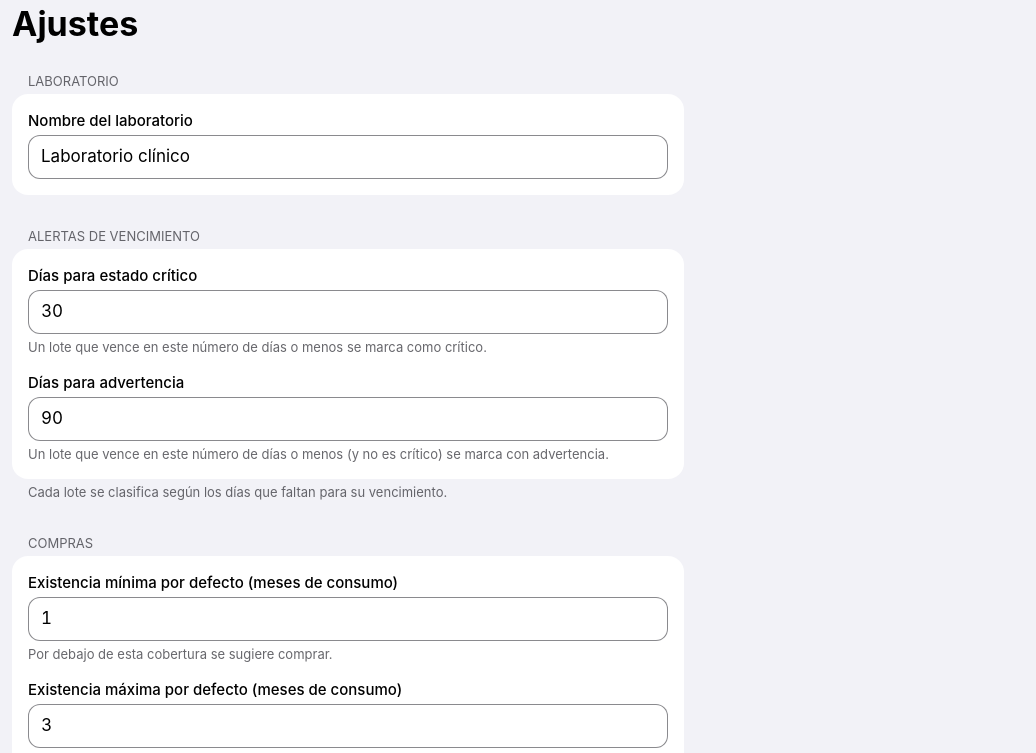
Test: SettingsPage › general settings › saves the changes and confirms with a toast
The width and height of the screenshot is (1036, 753).
Replace the text in the field labelled "Nombre del laboratorio" with "  Lab Central " at (348, 157), box [28, 135, 668, 179]
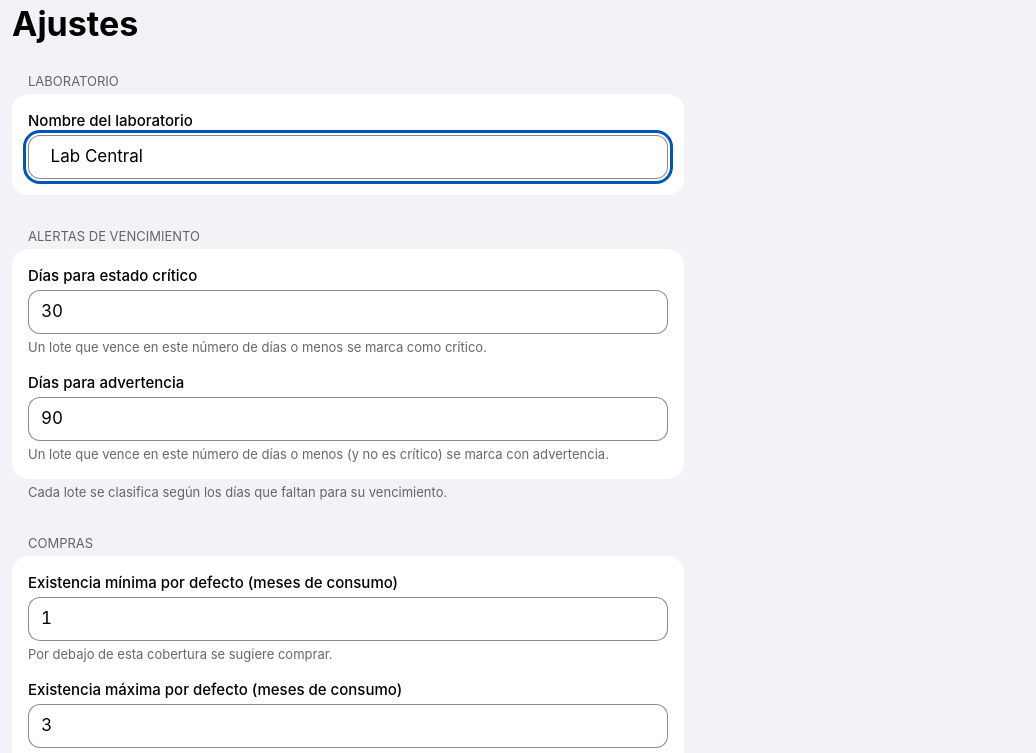
Replace the text in the field labelled "Días para estado crítico" with "15" at (348, 312), box [28, 290, 668, 334]
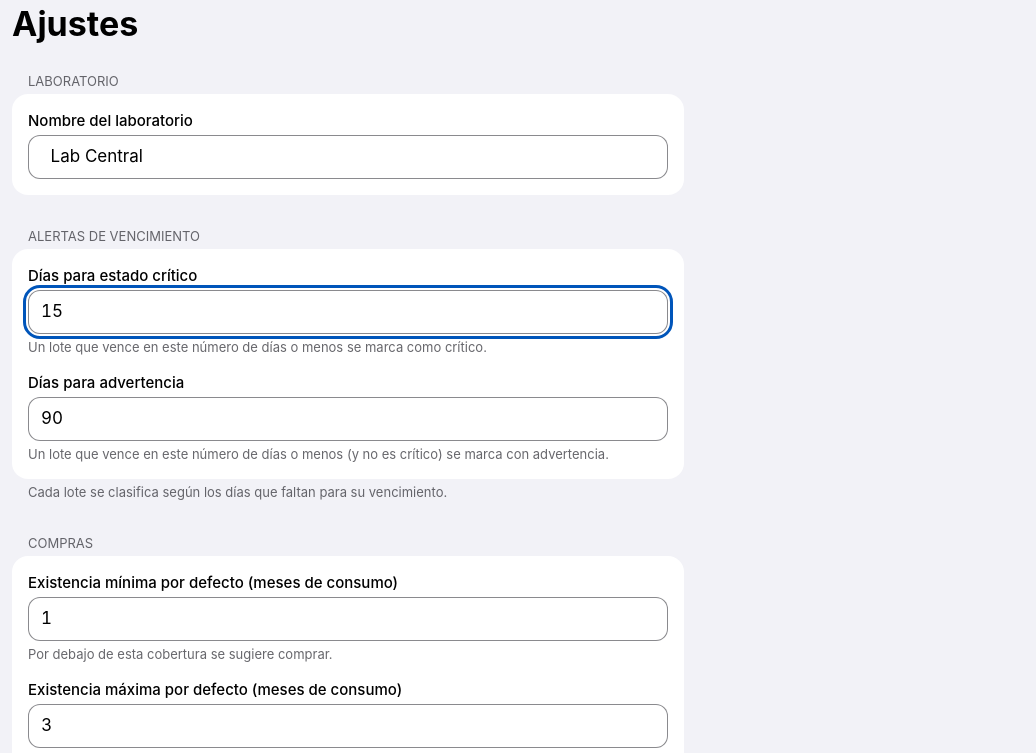
Replace the text in the field labelled "Días para advertencia" with "60" at (348, 419), box [28, 397, 668, 441]
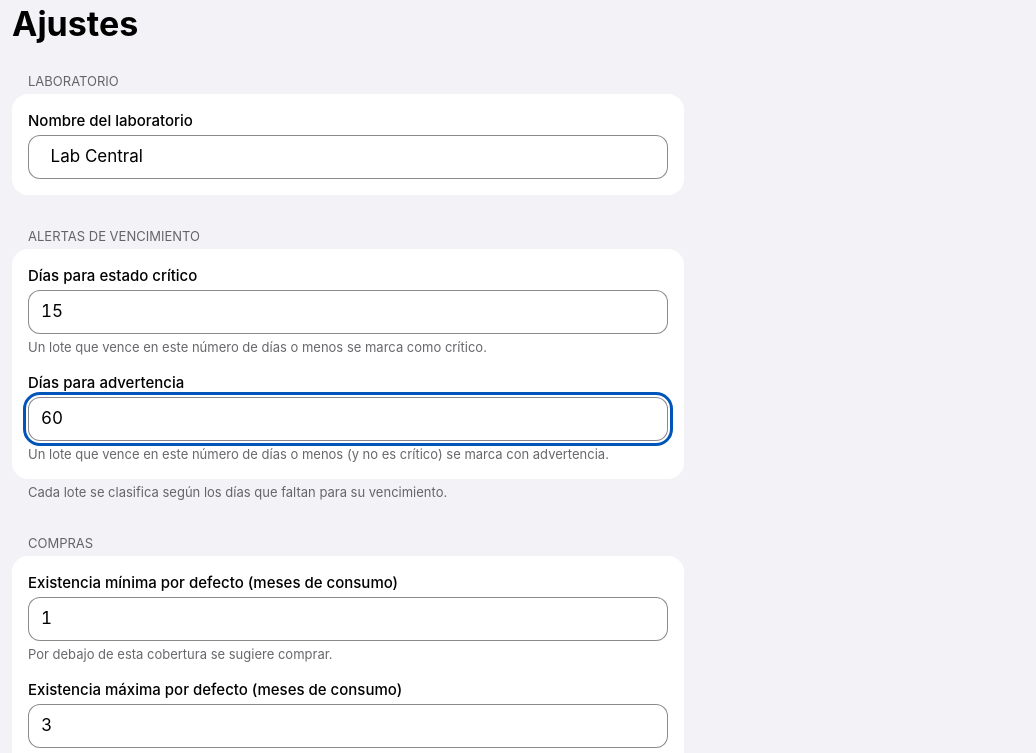
Replace the text in the field labelled "Existencia mínima por defecto (meses de consumo)" with "2" at (348, 619), box [28, 597, 668, 641]
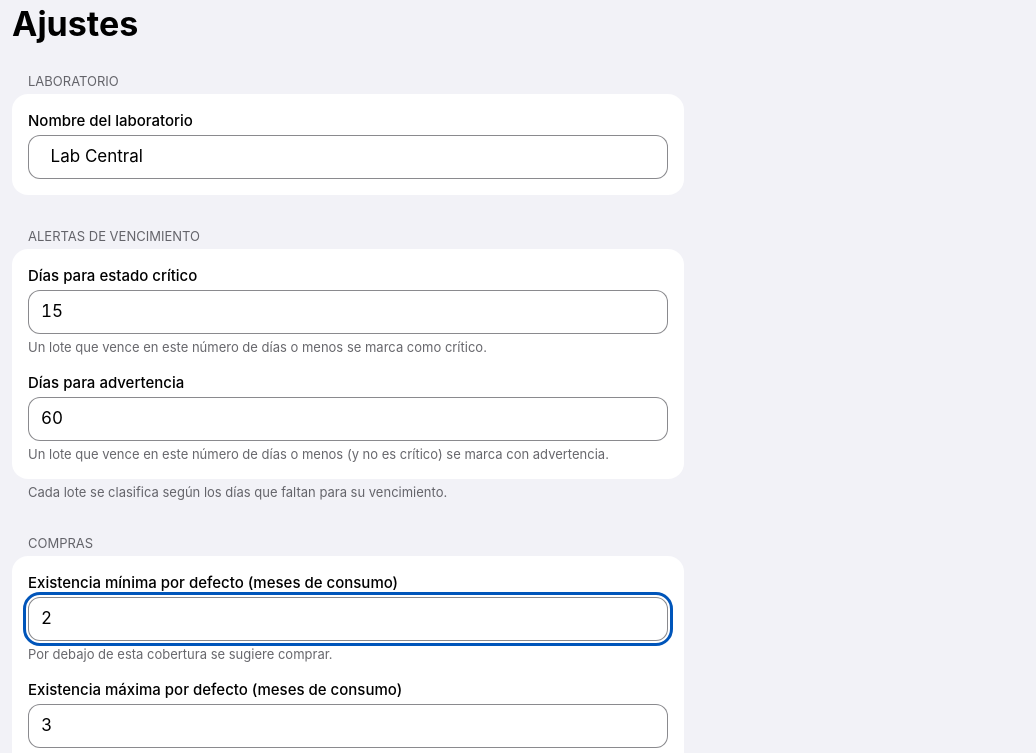
Replace the text in the field labelled "Existencia máxima por defecto (meses de consumo)" with "2" at (348, 726), box [28, 704, 668, 748]
(page scrolled)
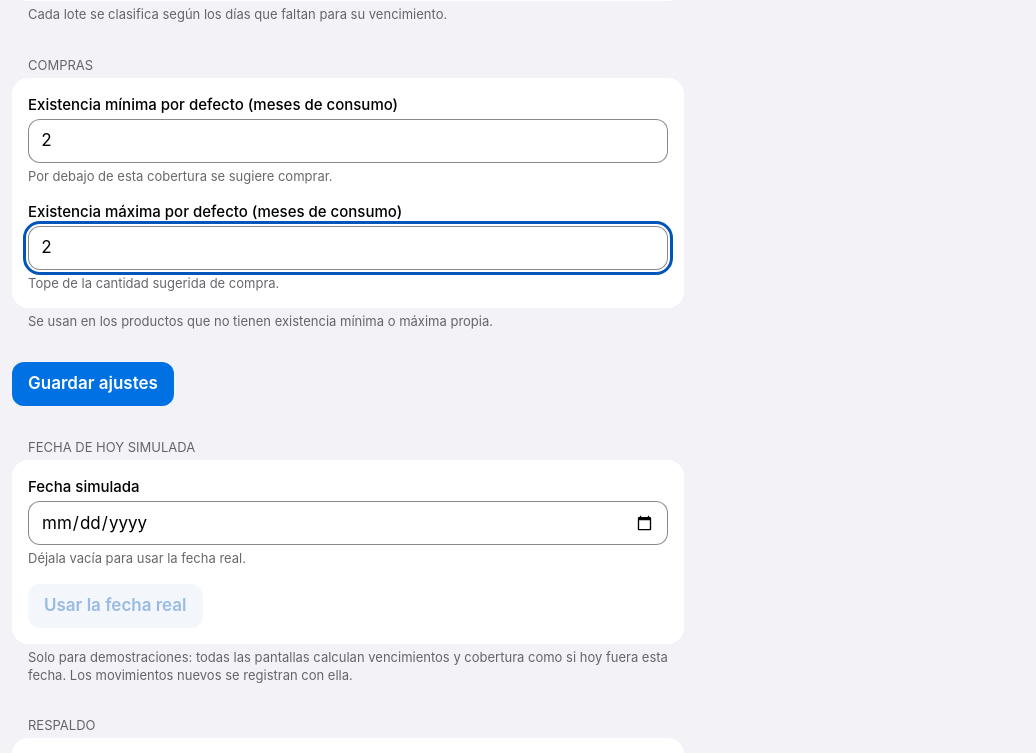
Click the button "Guardar ajustes" at (93, 384), box [12, 362, 174, 406]
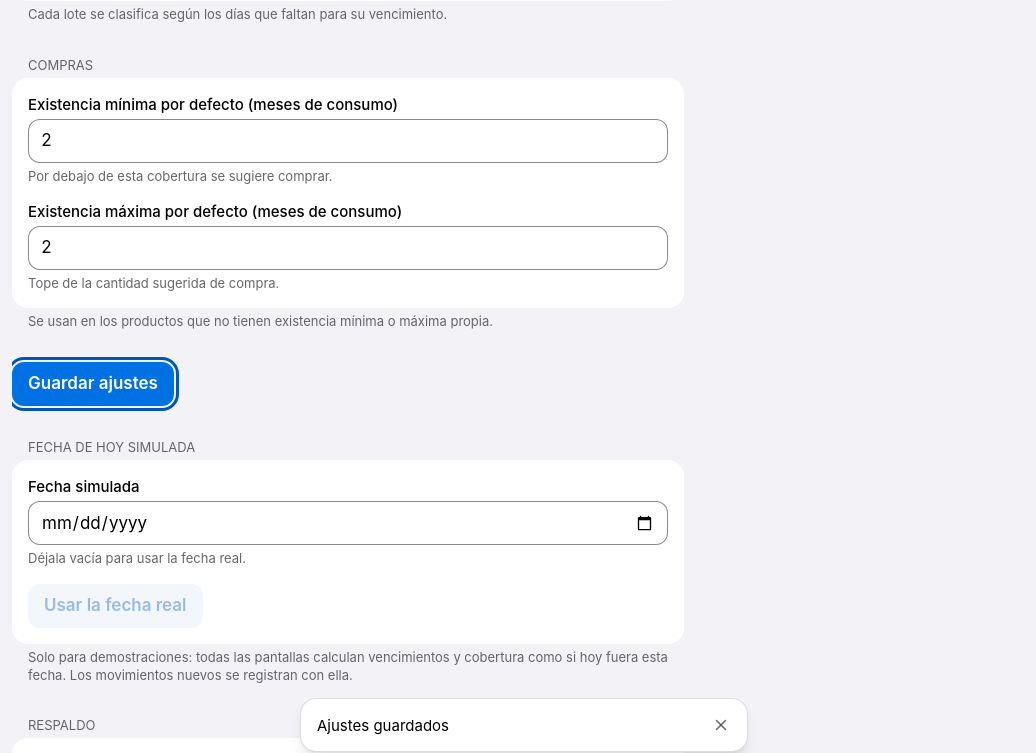
Now the text "Ajustes guardados" is shown, box [317, 716, 449, 734]
